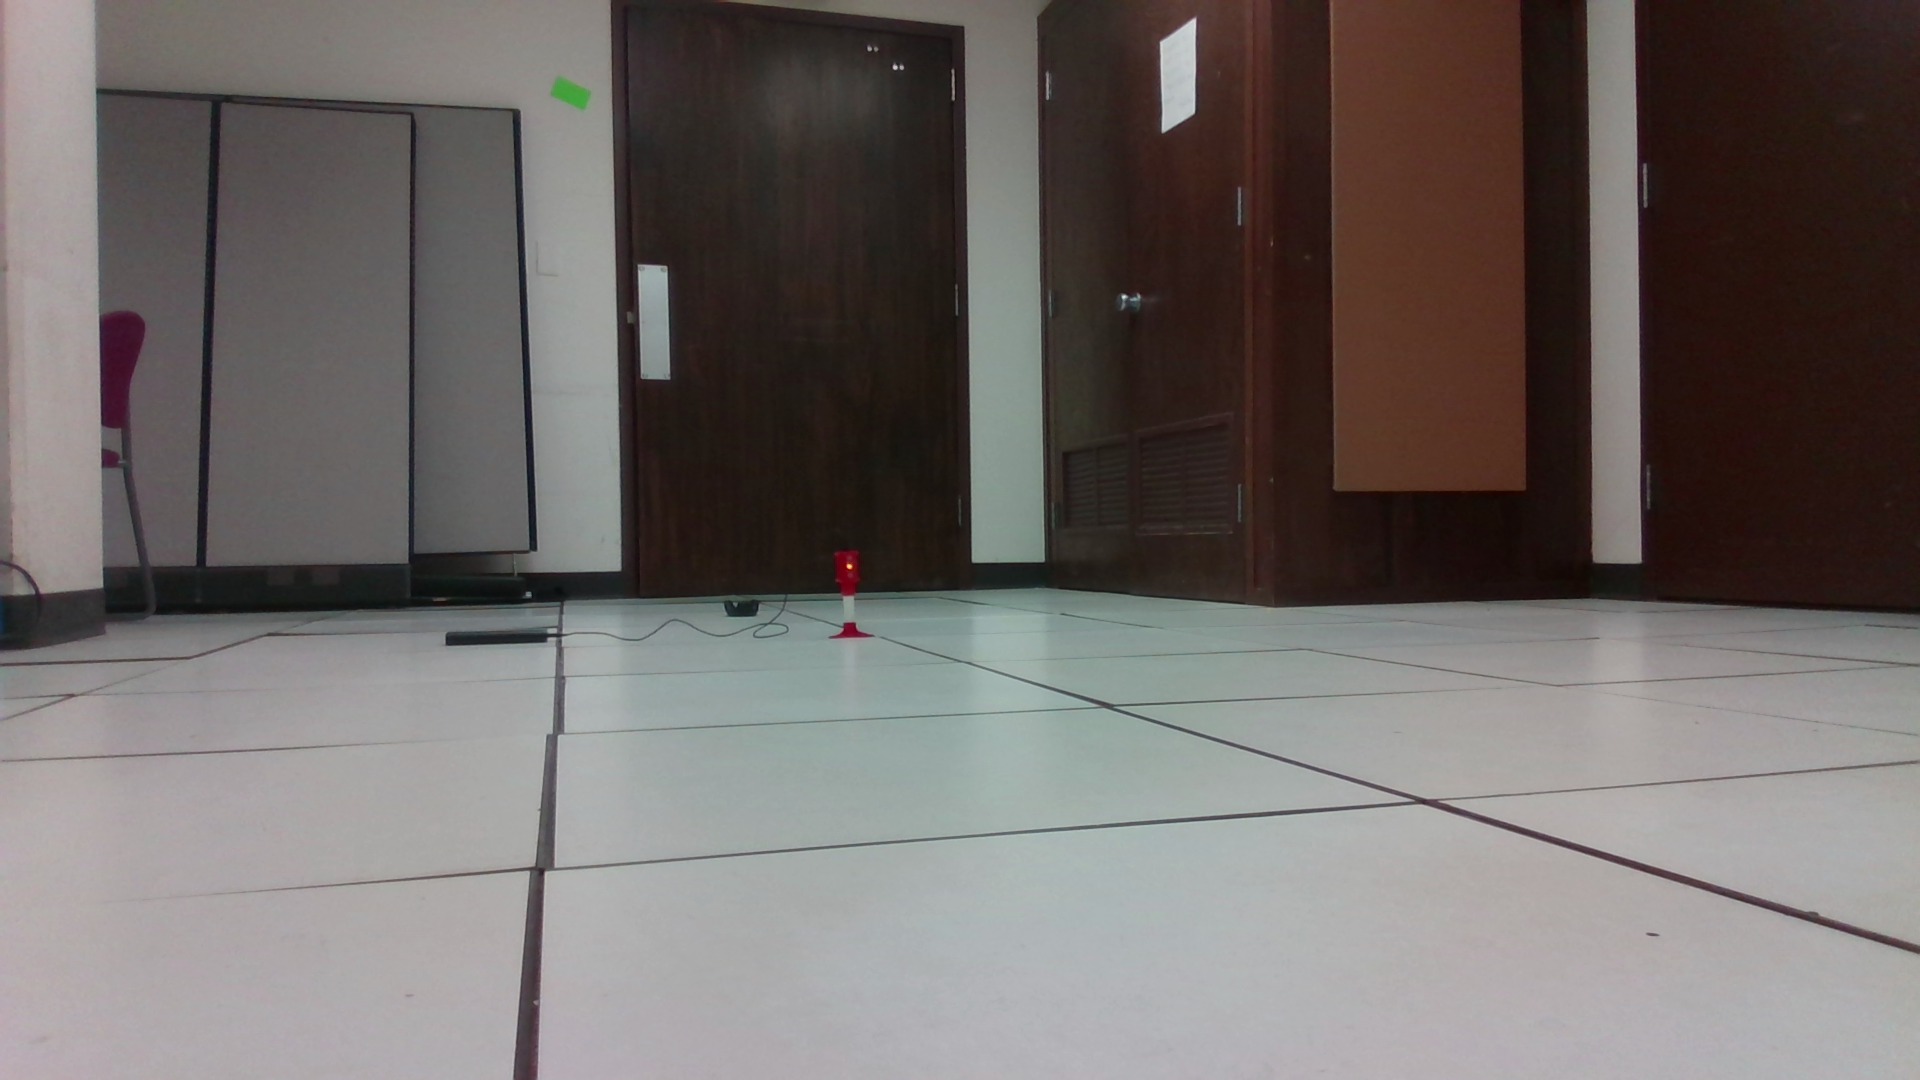stoplight: (832, 553, 858, 593)
